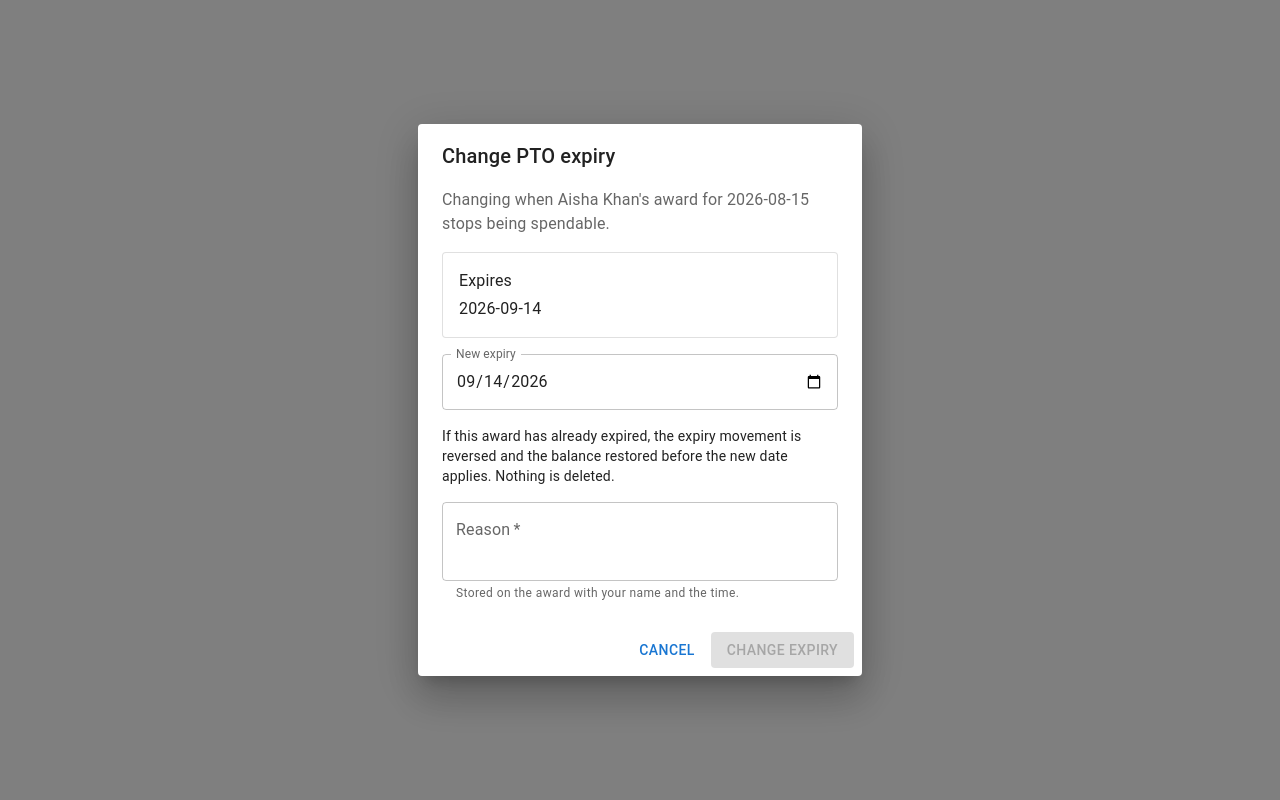
Test: OverrideExpiryDialog › will not submit without a reason
Expected: the button "Change expiry" is disabled, [711, 632, 854, 668]
Type "Extended by agreement" into the text box labelled "Reason *" at (640, 541), box [456, 518, 824, 564]
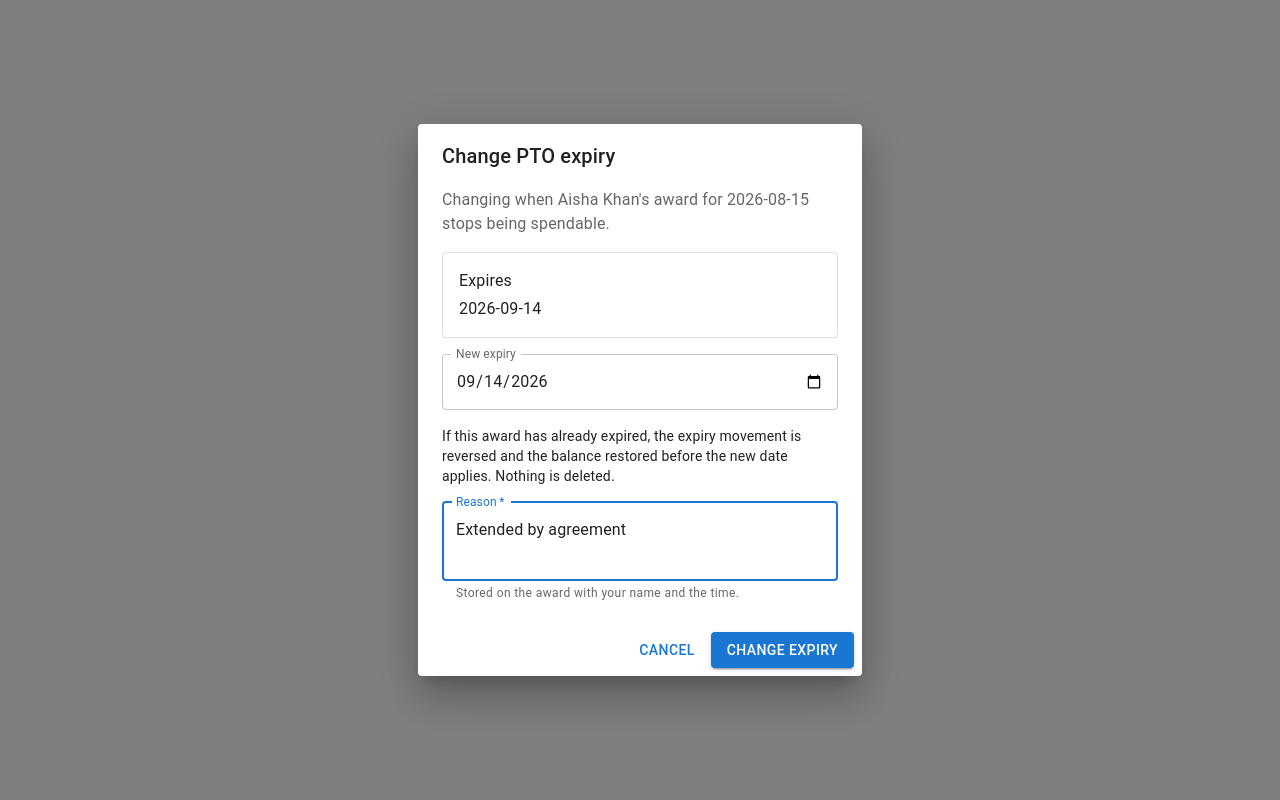
Expected: the button "Change expiry" is enabled, [711, 632, 854, 668]
